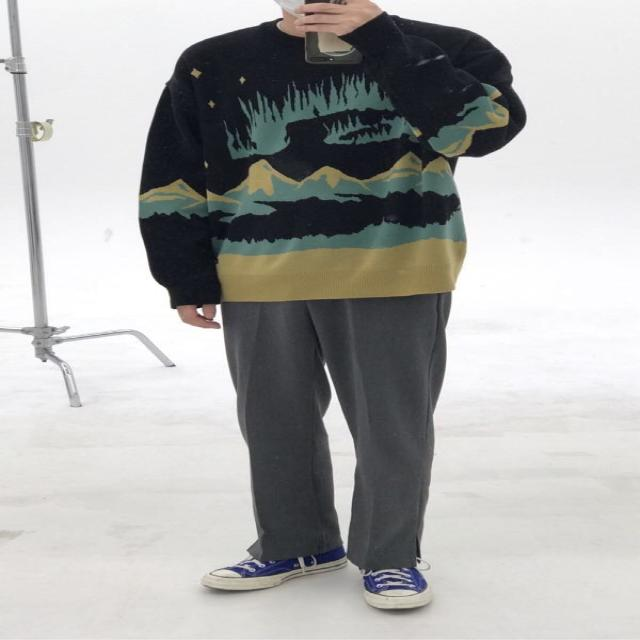slacks: (218, 287, 450, 570)
sweater: (139, 9, 535, 304)
